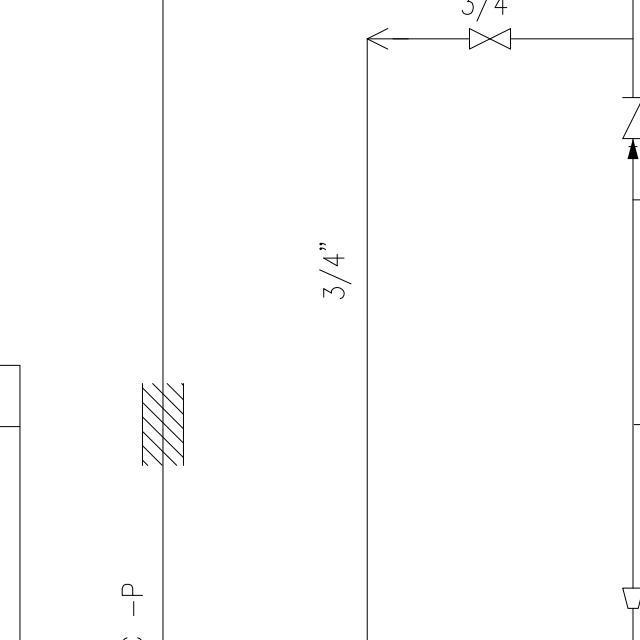GV: (465, 23, 515, 53)
